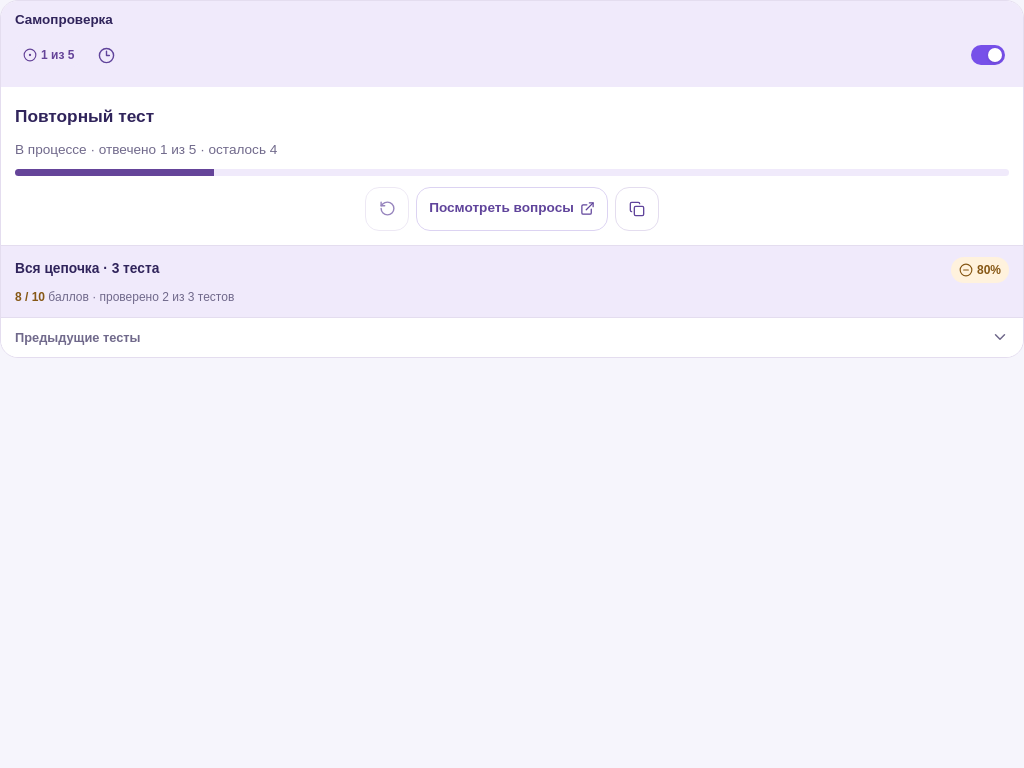
Scenario: time control in the existing quiz card › keeps historical dates immediately after their own row; parent=true
Click the heading "Предыдущие тесты" at (78,337), box [15, 328, 1009, 346]
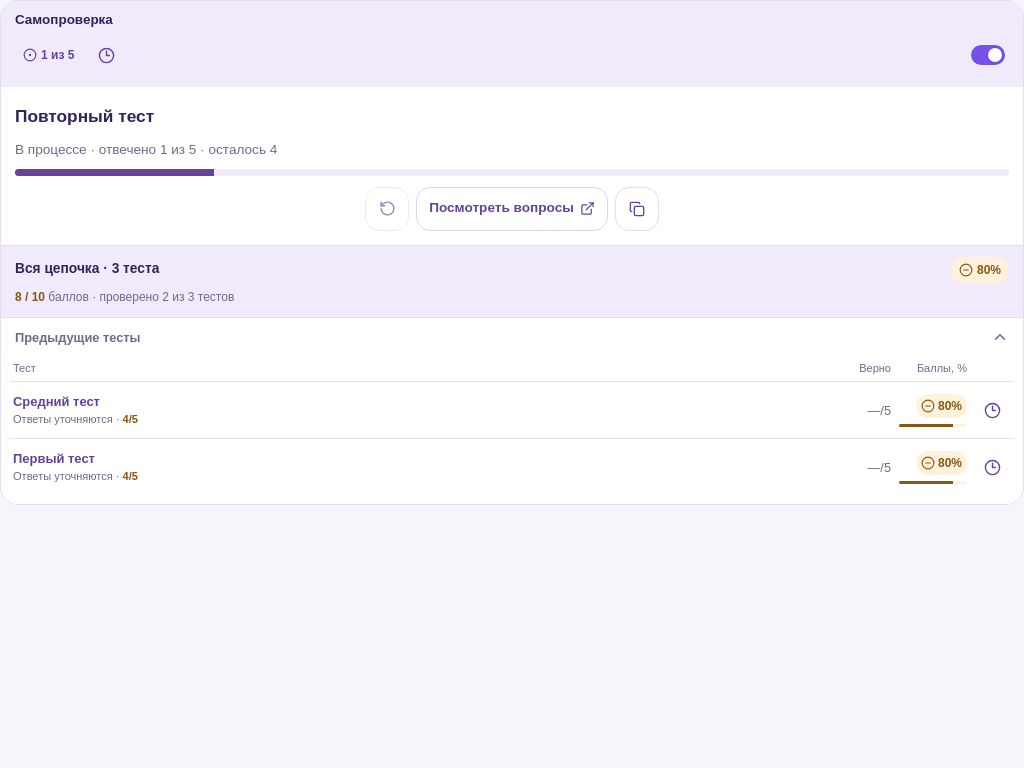
Click the button named "Показать время теста «Средний тест»" at (992,410), box [970, 388, 1014, 432]
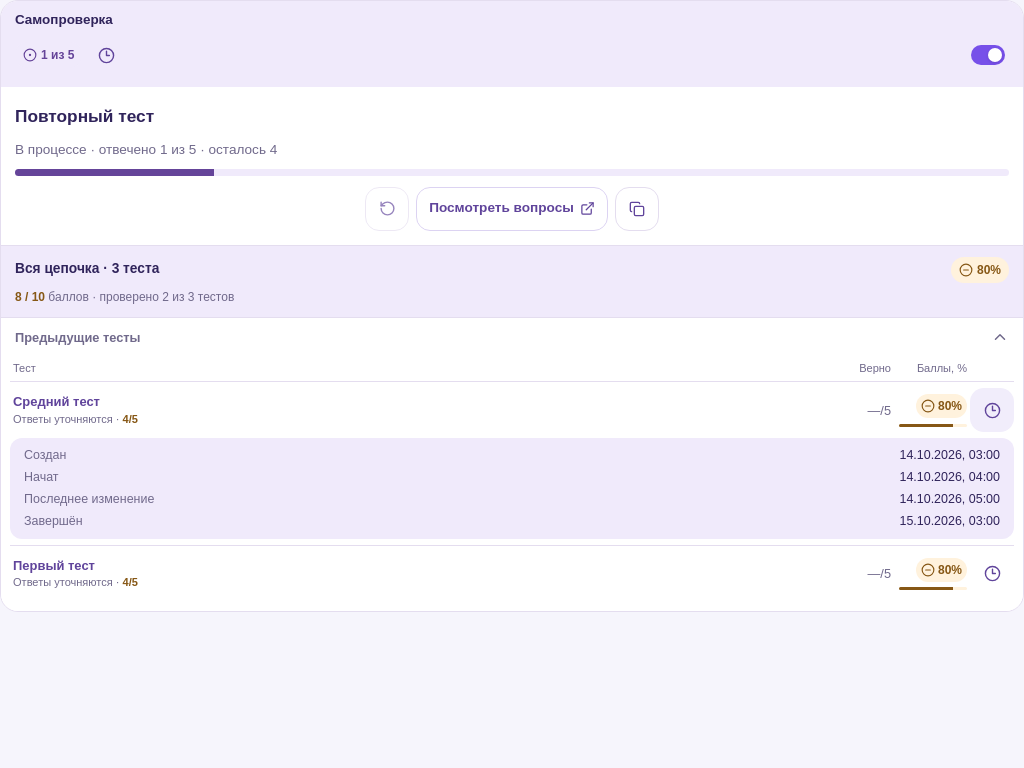
Click the button named "Показать время теста «Первый тест»" at (992,574), box [970, 552, 1014, 596]
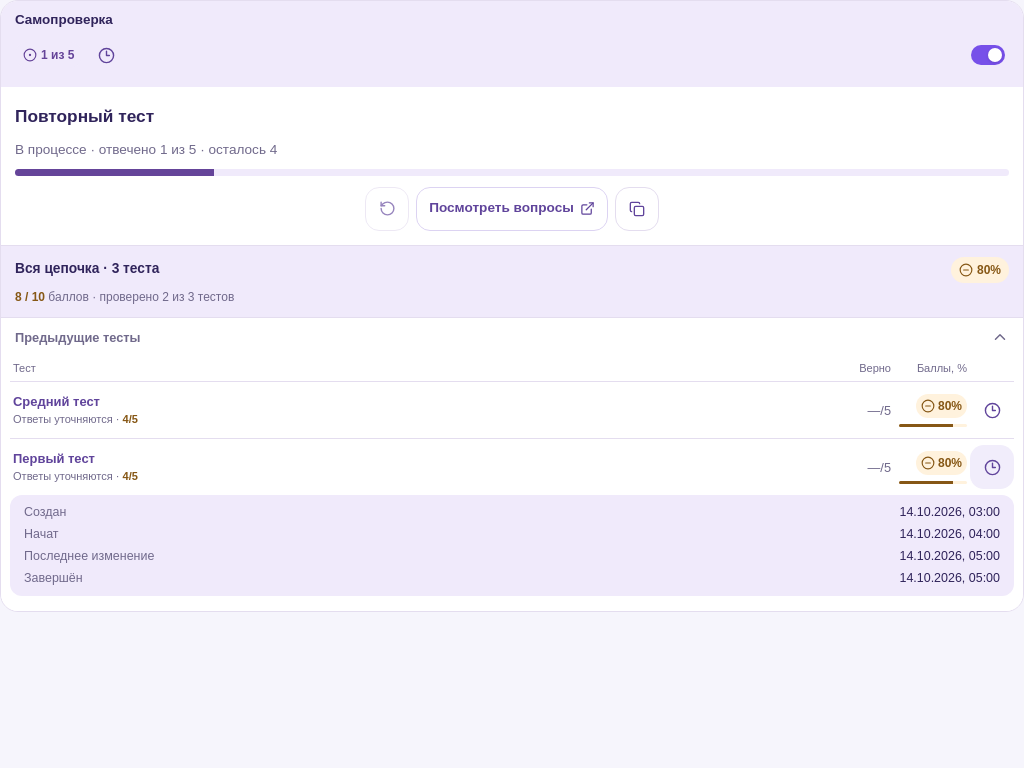
Result: the number of elements with class "day-quiz-time-details" is 1 at [10, 495, 1014, 596]
Click the button named "Показать время теста «Первый тест»" at (992,467), box [970, 445, 1014, 489]
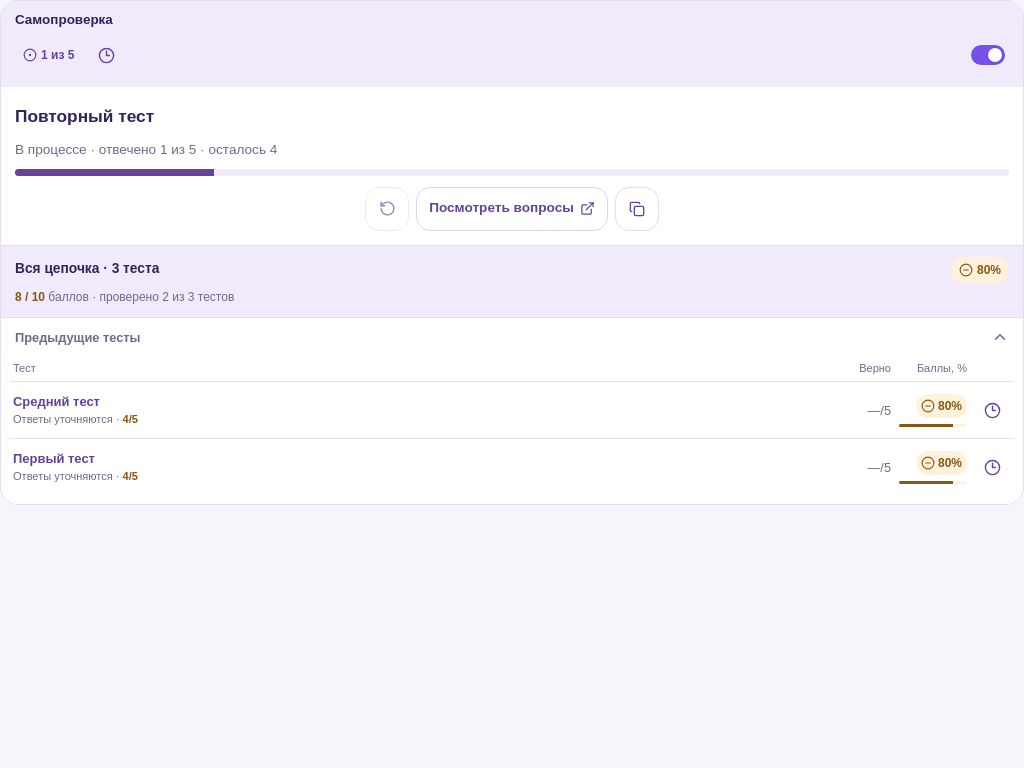
Result: no elements with class "day-quiz-time-details" are shown
